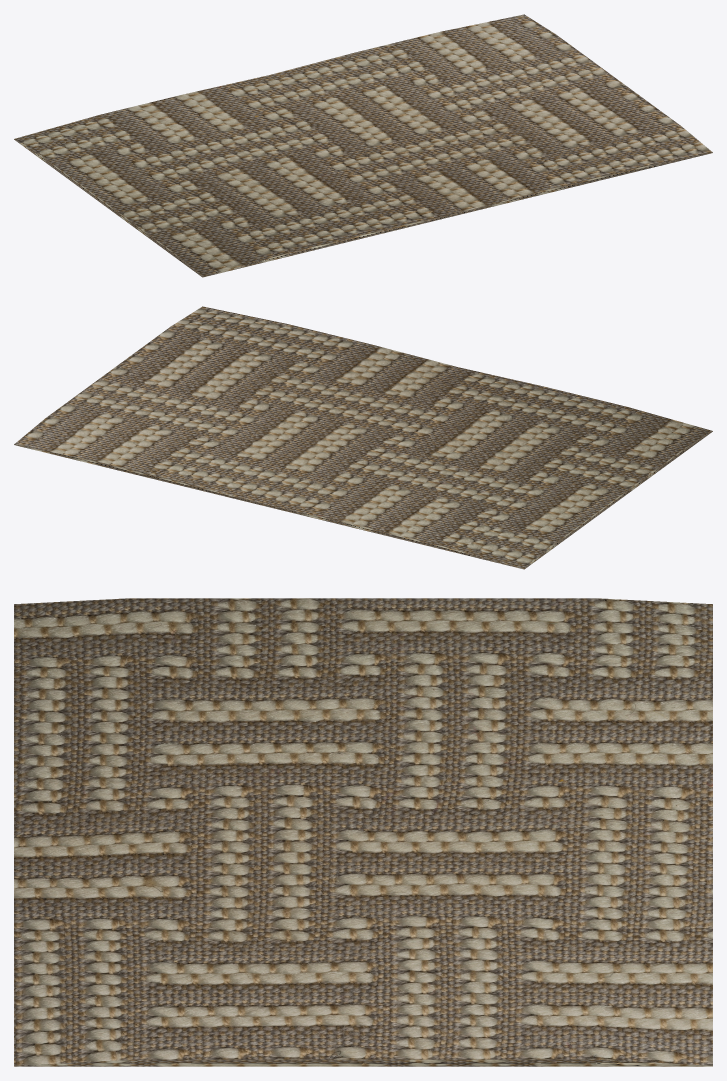
Rendered from Obj_vid_14_catifa_low_poly.fbx.
3 views of the same model, one above another, from view 1: azimuth 30°, elevation 25°; view 2: azimuth 150°, elevation 25°; view 3: azimuth 270°, elevation 25° (orthographic). The views are drawn at different scales.
Visible parts, largest first — view 1: Obj_vid_14_catifa_low_poly; view 2: Obj_vid_14_catifa_low_poly; view 3: Obj_vid_14_catifa_low_poly.
Boxes of the visible parts, bbox=[...] form: Obj_vid_14_catifa_low_poly: bbox=[14, 14, 712, 277]; Obj_vid_14_catifa_low_poly: bbox=[14, 306, 712, 569]; Obj_vid_14_catifa_low_poly: bbox=[14, 598, 712, 1066].
Size of the model in its own units: 2.82 by 0.0198 by 1.8.
